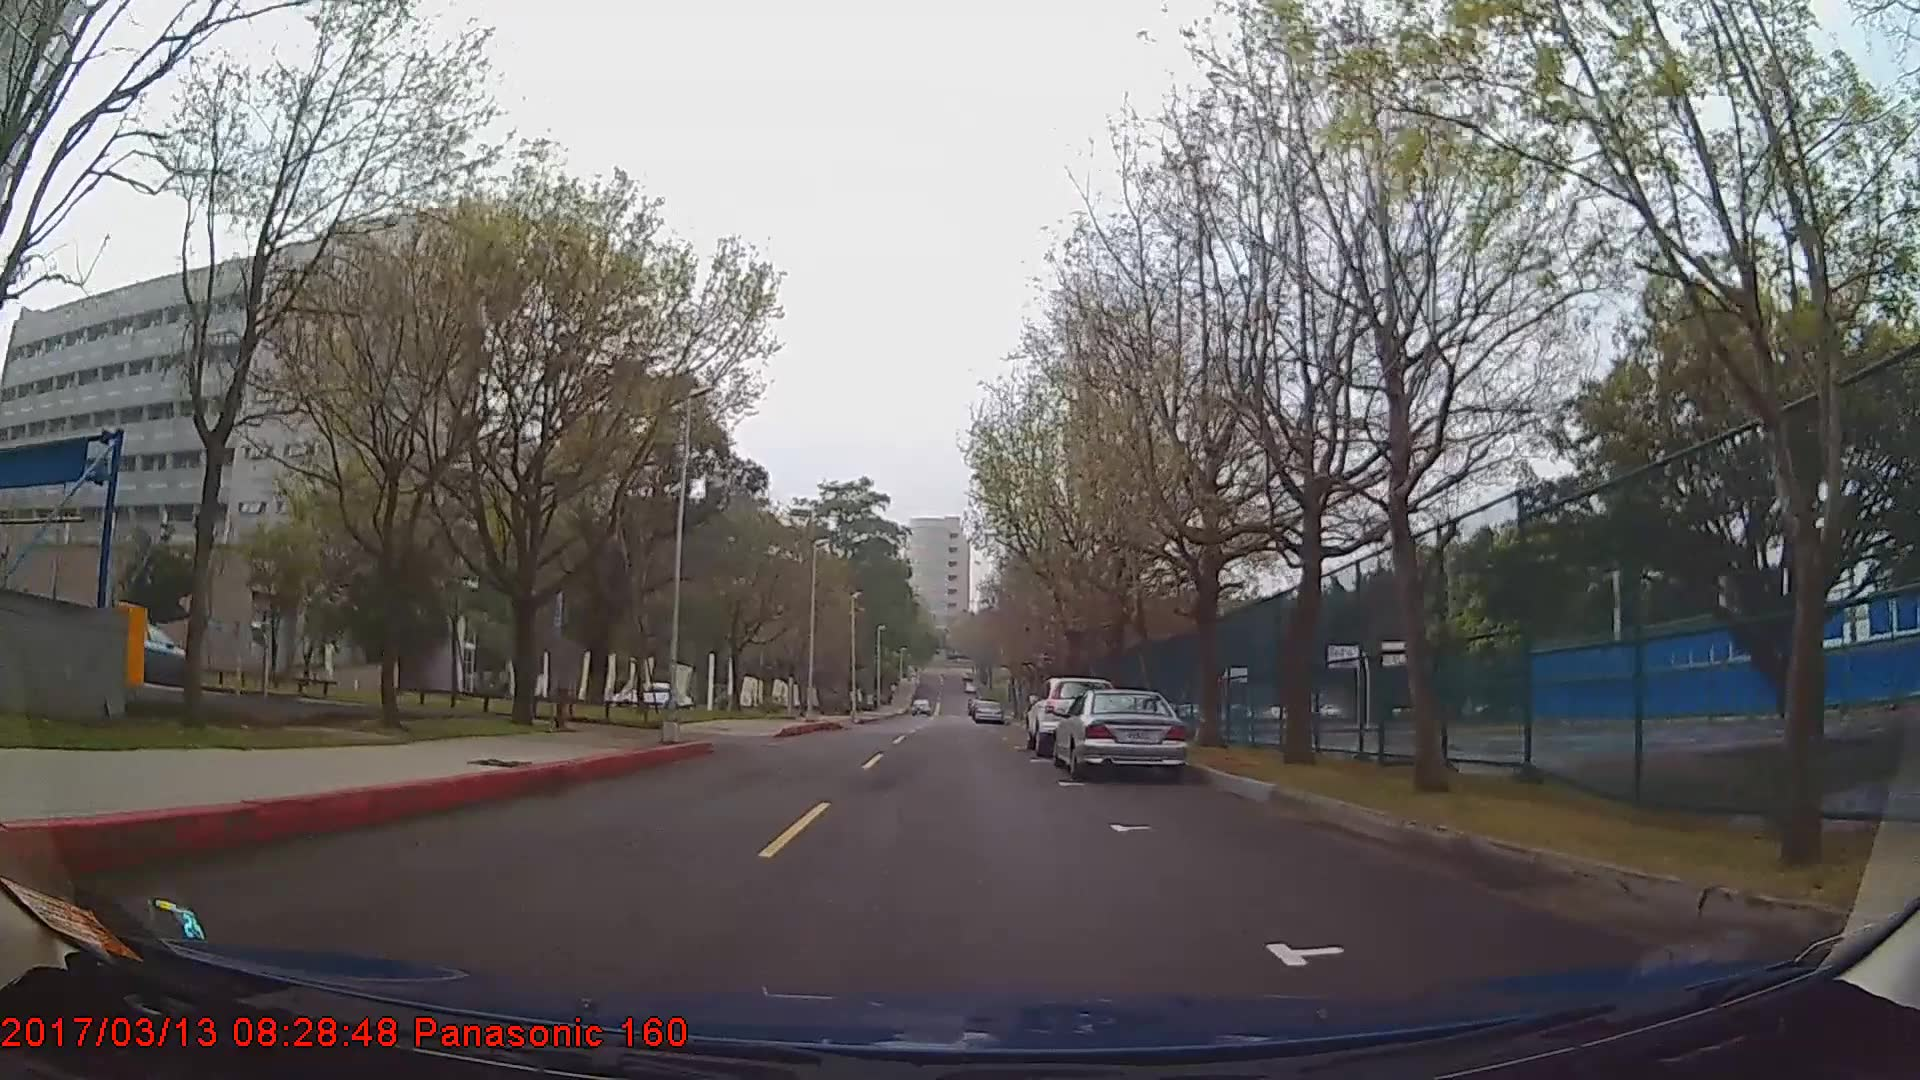vehicle: (1052, 686, 1189, 775), (86, 617, 203, 687), (1026, 671, 1117, 752), (613, 680, 694, 709)
